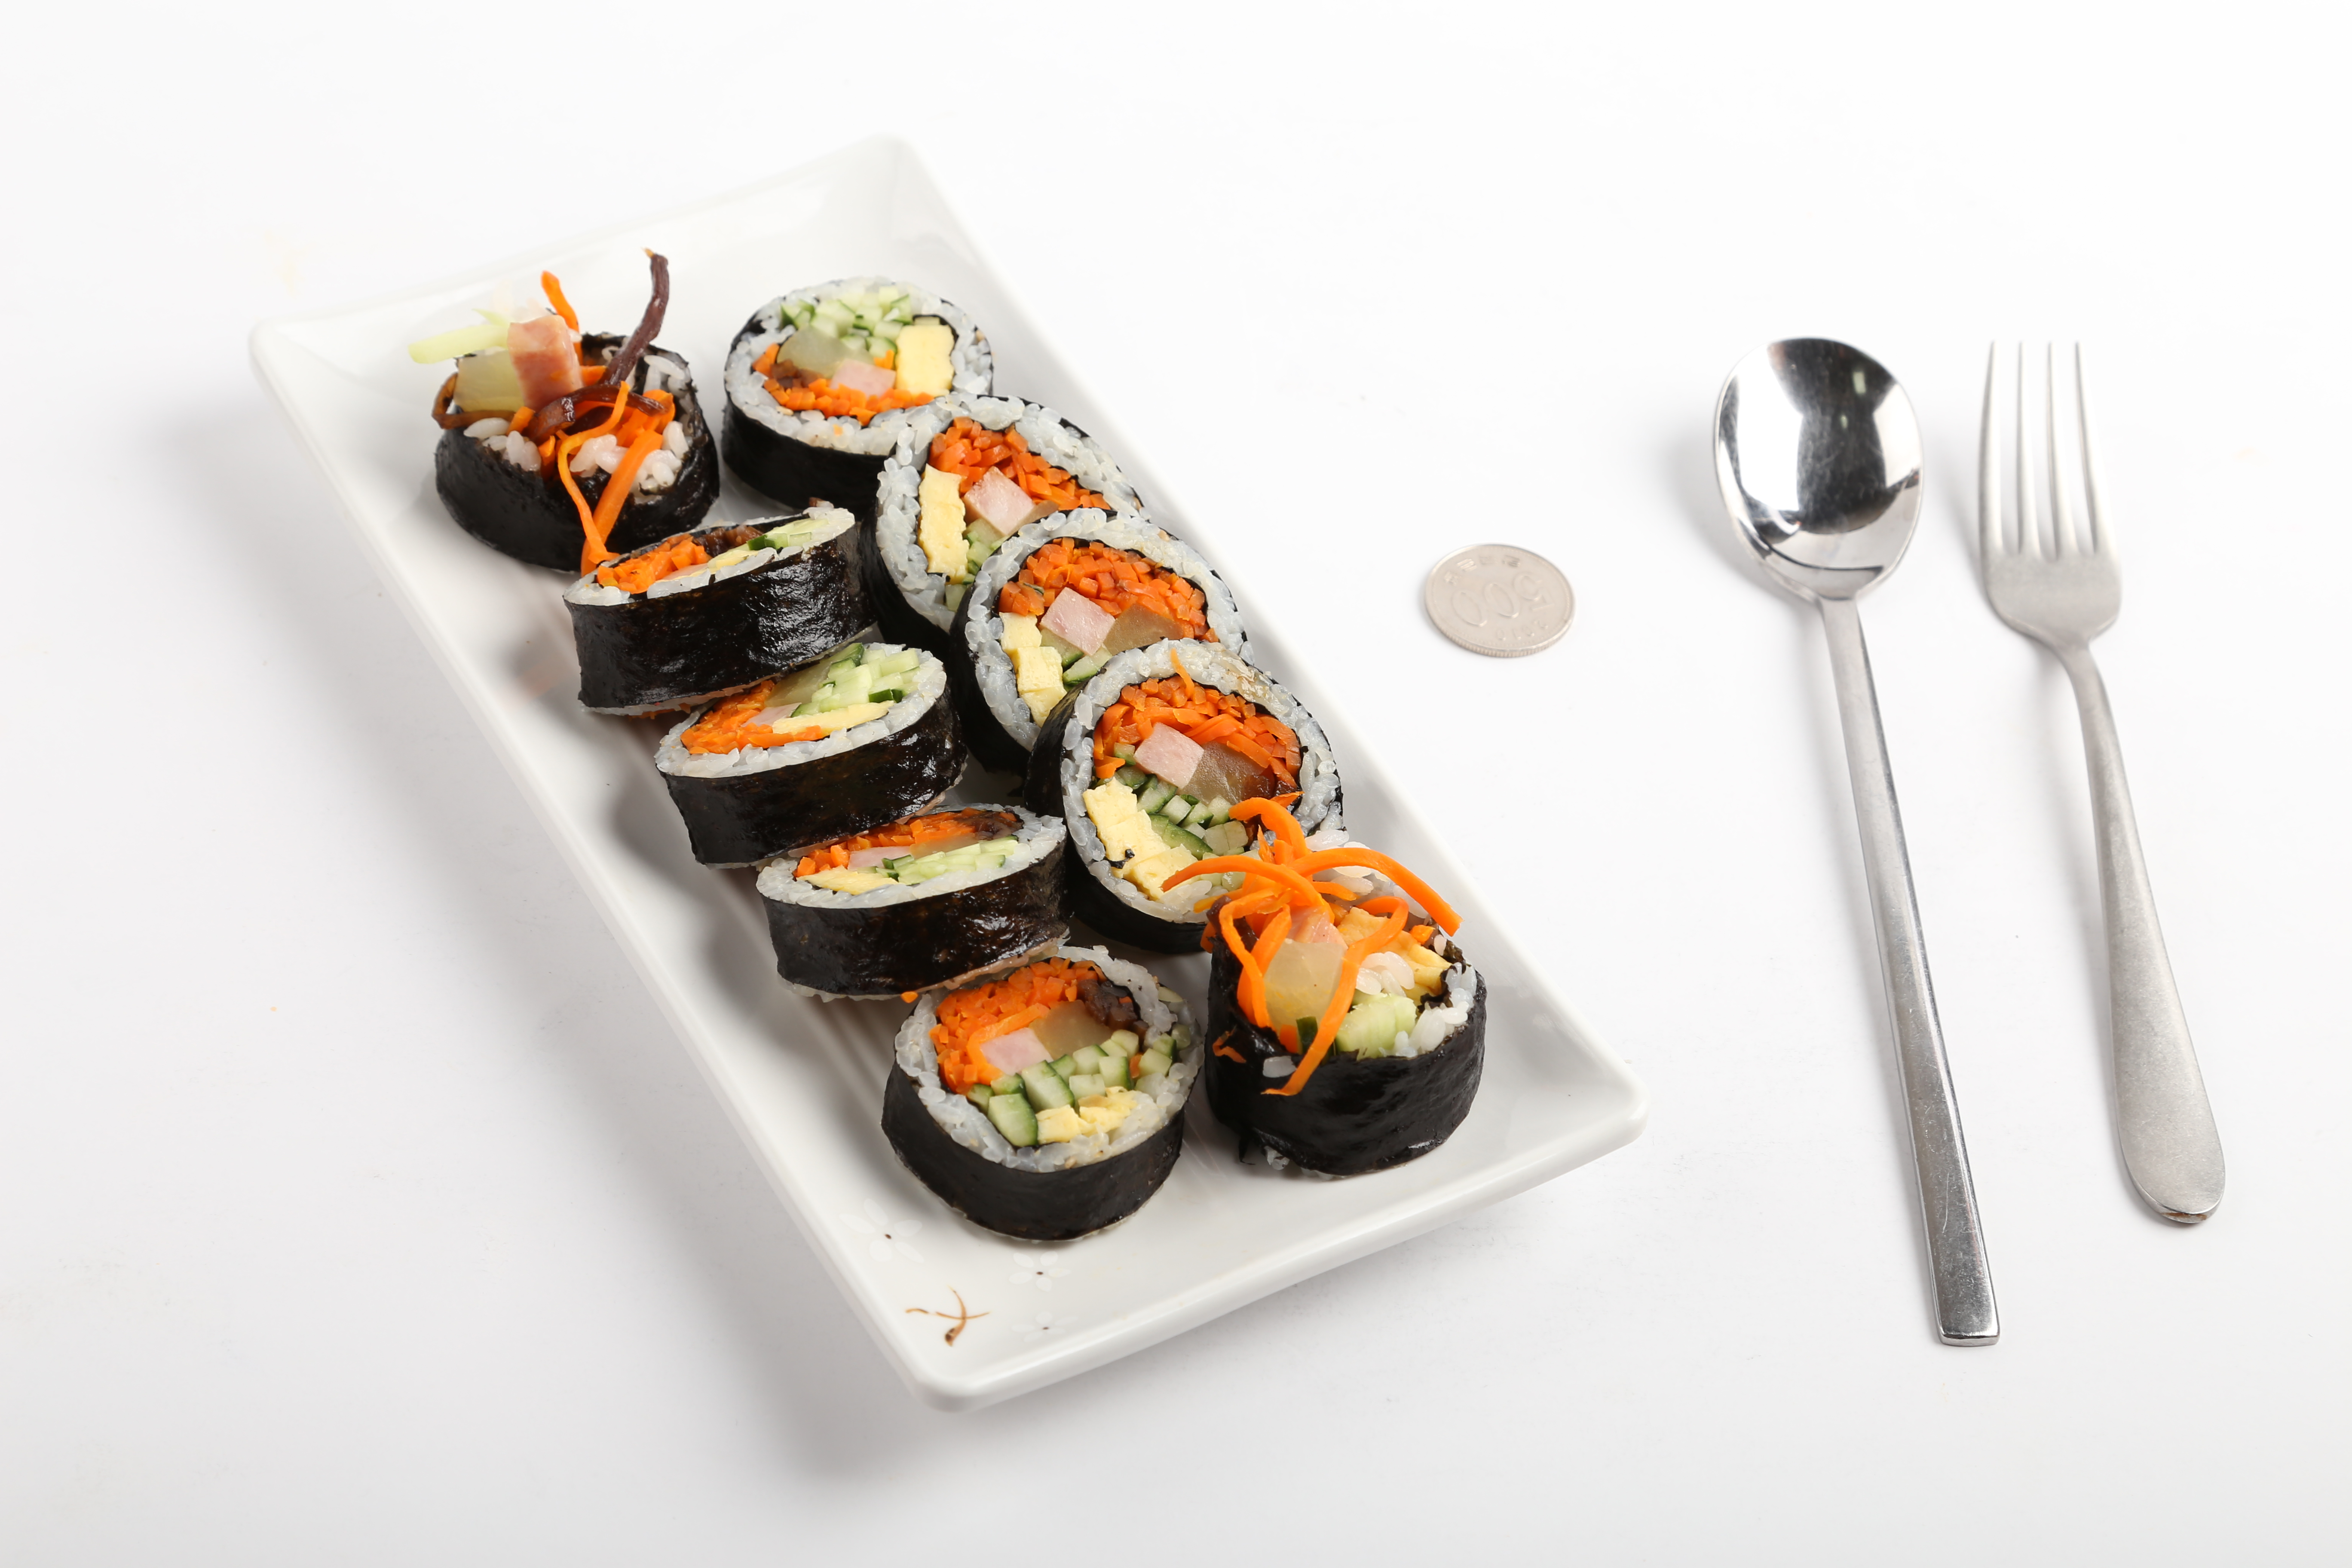dish: (247, 138, 1657, 1417)
ref_coin: (1417, 539, 1578, 663)
ref_fork: (1967, 343, 2130, 691)
ref_spoon: (1708, 338, 1930, 642)
김밥: (432, 276, 1486, 1249)
